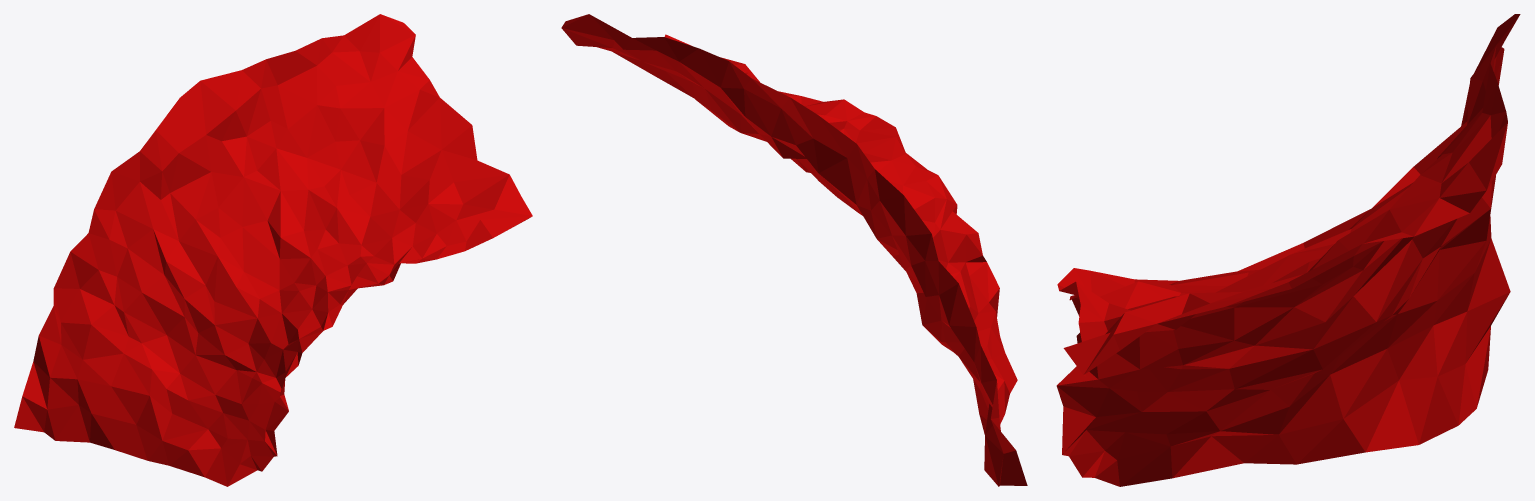
Rendered from Backdropp06.fbx.
3 views of the same model, side by side, from view 1: azimuth 30°, elevation 25°; view 2: azimuth 150°, elevation 25°; view 3: azimuth 270°, elevation 25° (orthographic). The views are drawn at different scales.
Visible parts, largest first — view 1: Backdropp06; view 2: Backdropp06; view 3: Backdropp06.
Boxes of the visible parts, x1,y1,x2,y2 form: Backdropp06: (14,14,532,486); Backdropp06: (561,14,1027,486); Backdropp06: (1056,14,1520,486).
Size of the model in its own units: 59797 by 47008 by 32908.
